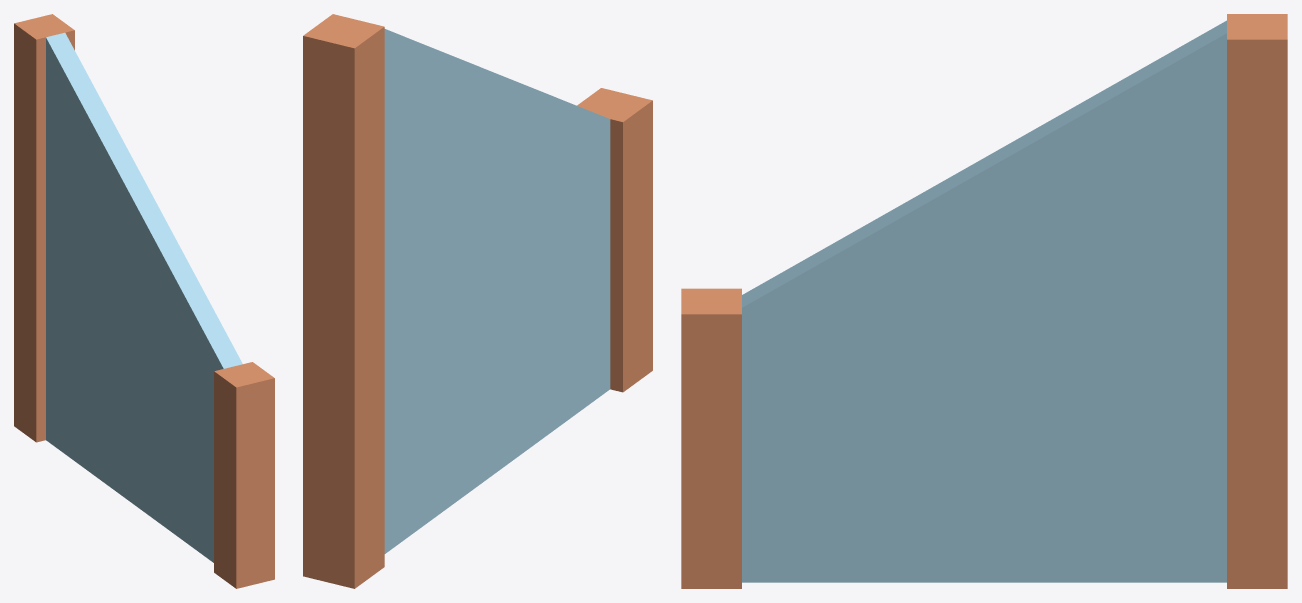
The model's file is wallSlope.glb.
3 views of the same model, side by side, from view 1: azimuth 30°, elevation 25°; view 2: azimuth 150°, elevation 25°; view 3: azimuth 270°, elevation 25° (orthographic). The views are drawn at different scales.
Visible parts, largest first — view 1: wallSlope; view 2: wallSlope; view 3: wallSlope.
Part boxes in pixels (x1,y1,x2,y2): wallSlope: (14, 14, 274, 588); wallSlope: (303, 14, 652, 588); wallSlope: (681, 14, 1287, 588).
Bounding box in the file's own units: 0.1 × 1 × 1.
